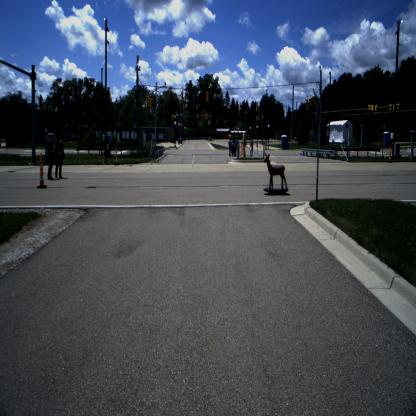Deer: (264, 151, 288, 189)
